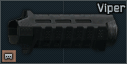AR-15 Strike Industries Viper Carbine Length M-LOK handguard FDE: (0, 0, 127, 64)
